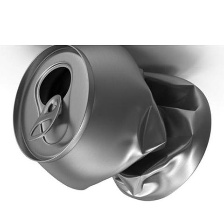can: (7, 45, 212, 202)
